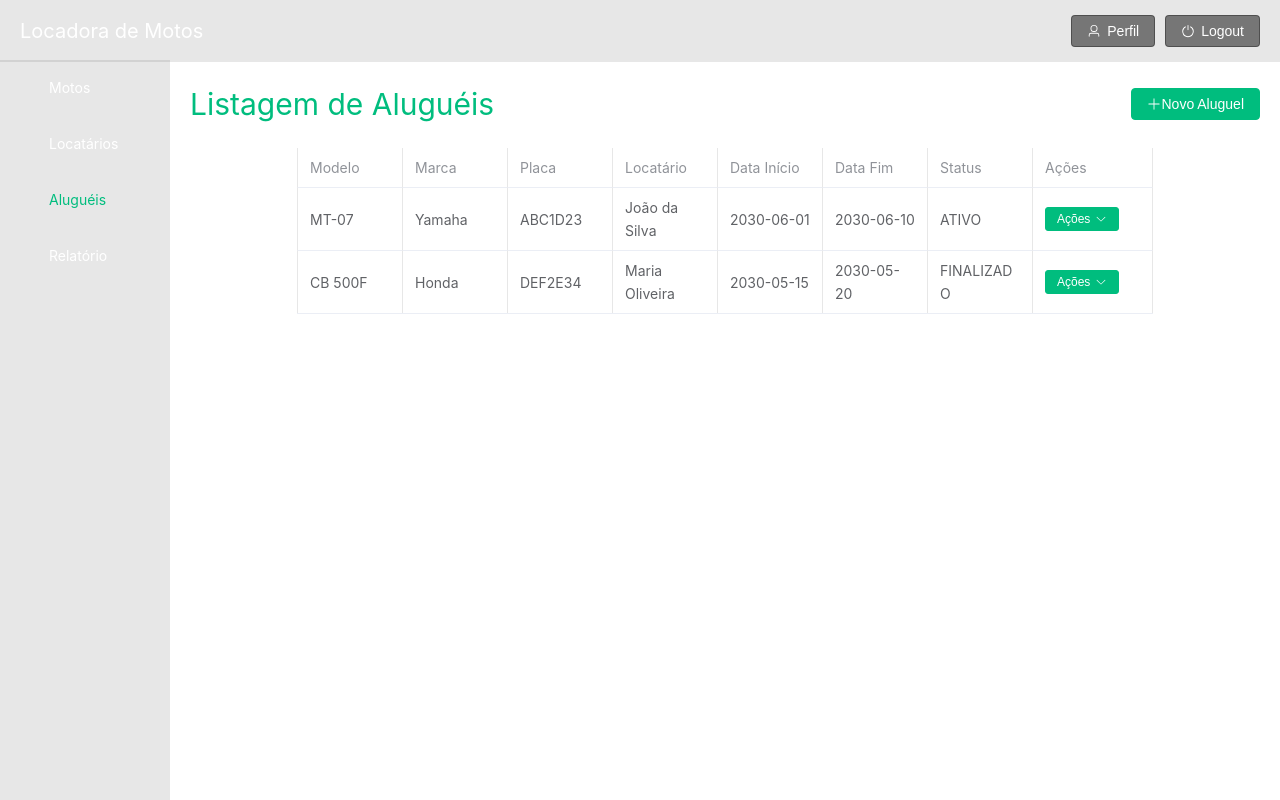
Scenario: Tela de Listagem de Aluguéis › deve abrir o modal de cadastro ao clicar em Novo Aluguel
Click the button "Novo Aluguel" at (1197, 104), box top-left (1132, 88), bottom-right (1261, 120)
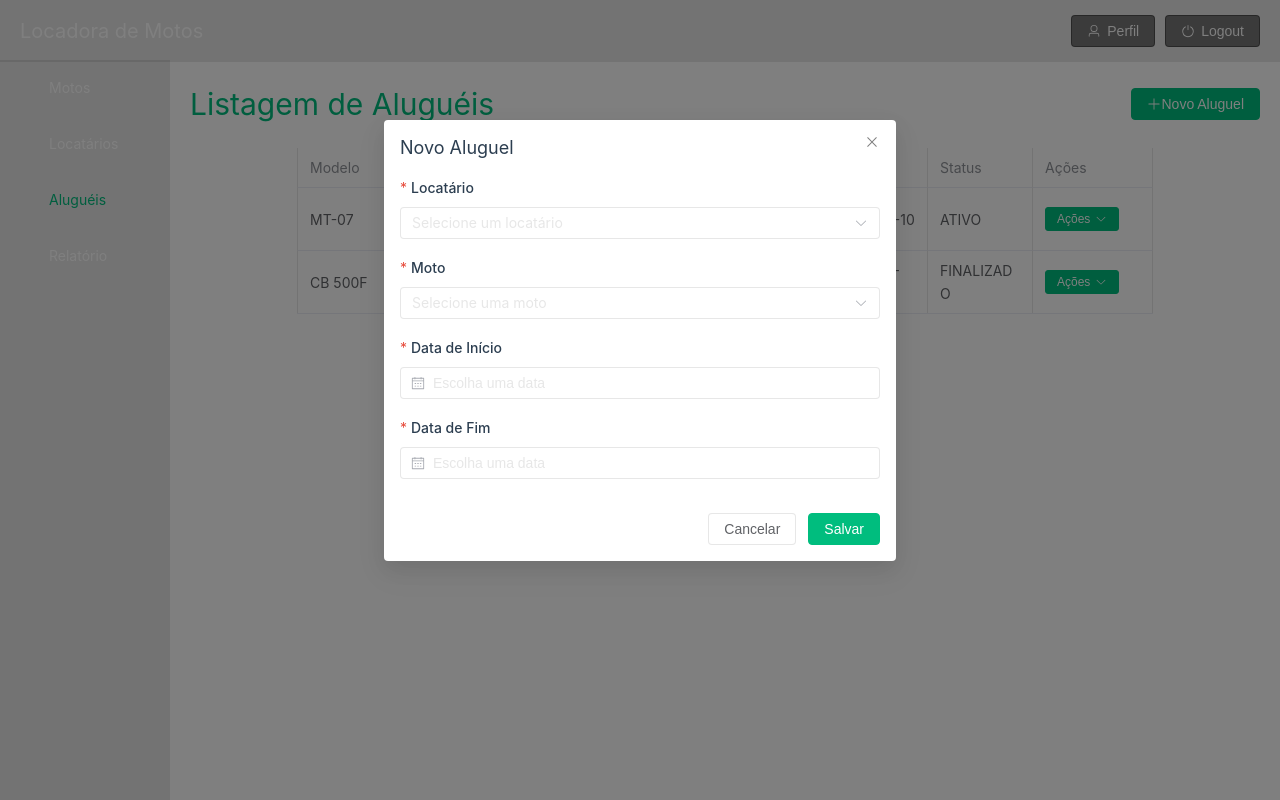
Check: the heading "Novo Aluguel" is shown, box top-left (400, 137), bottom-right (514, 158)
